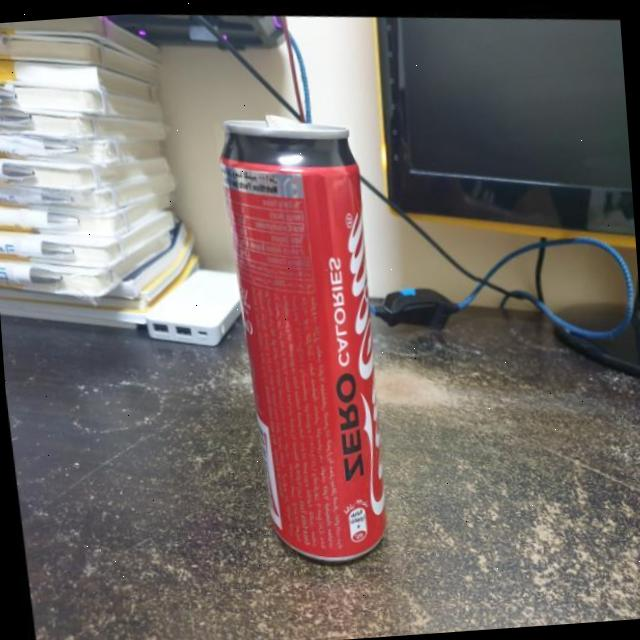trash: (200, 90, 416, 566)
